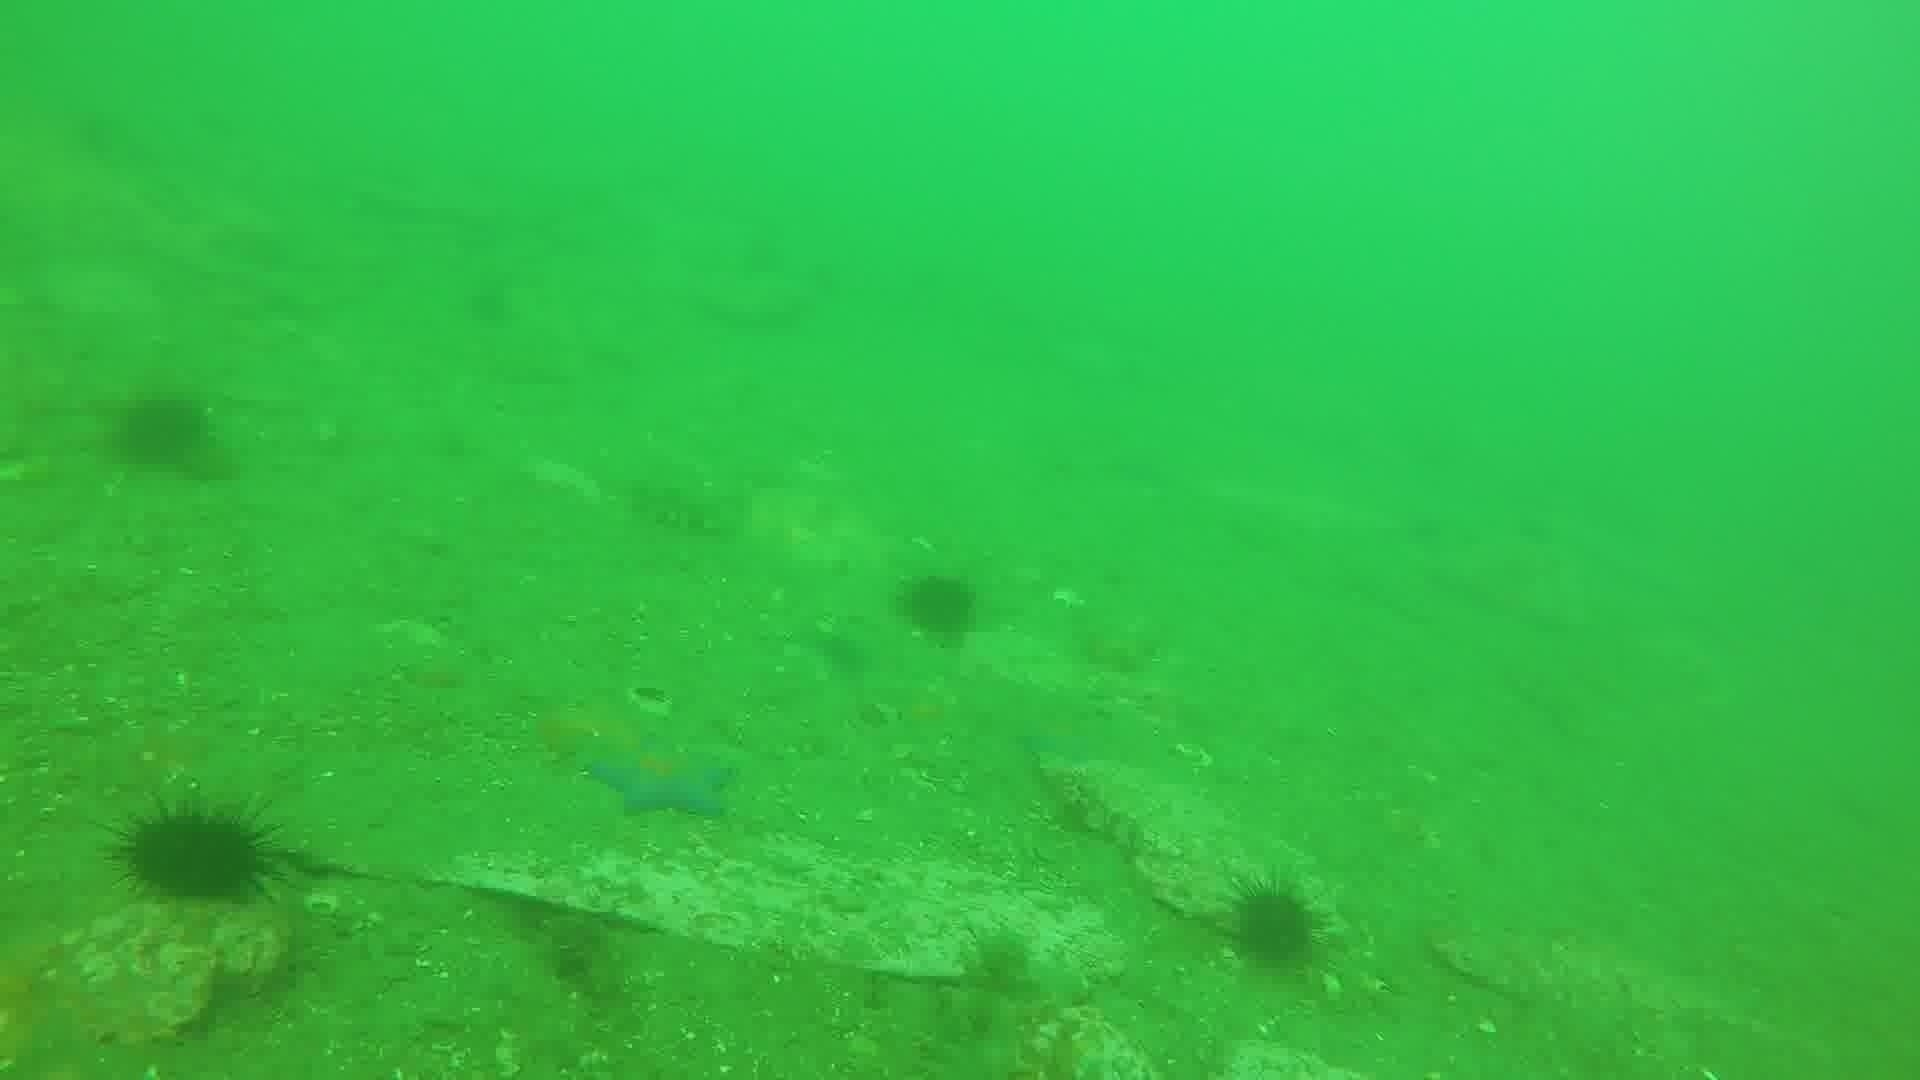echinus: (113, 800, 281, 911), (1221, 876, 1329, 975), (109, 389, 214, 475), (895, 568, 982, 646)
holothurian: (922, 928, 1047, 1080), (615, 465, 745, 541)
starfish: (582, 735, 735, 825)
